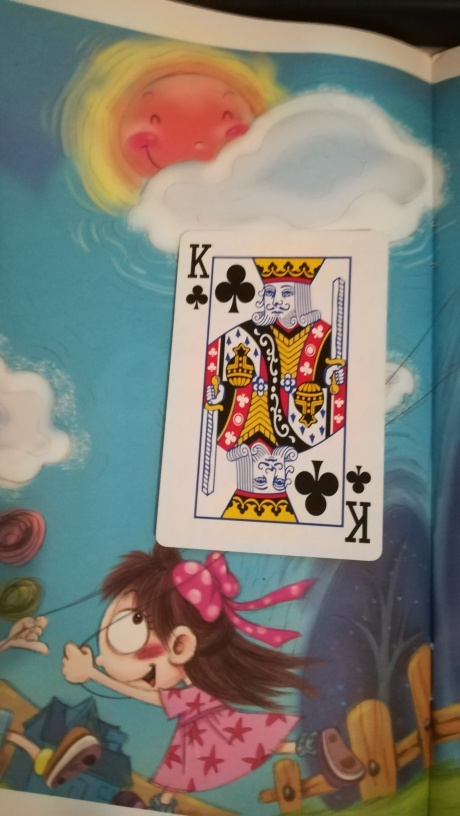mh k: (152, 228, 389, 564)
